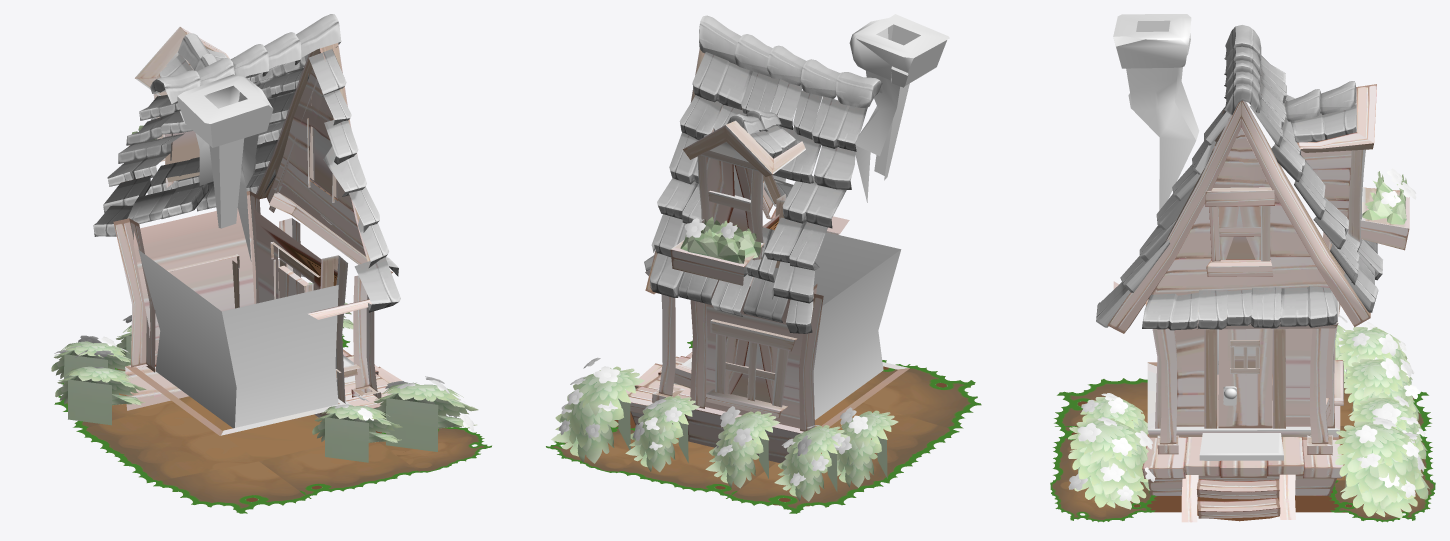
File: FarmerHouse.fbx
3 views of the same model, side by side, from view 1: azimuth 30°, elevation 25°; view 2: azimuth 150°, elevation 25°; view 3: azimuth 270°, elevation 25° (orthographic). The views are drawn at different scales.
Parts seen in each view (by area): view 1: FarmerHouse2 (1), FarmerHouseGround, FarmerHouseSideRoof, FarmerHouseChimney, FarmerHouseRoof, BushSmall, BushSmall (1), BushSmallBlue (2), FarmerHouseWindowDay, BushSmallBlue (1), FarmerHouseSmallRoofs, FarmerHouseDoor005; view 2: FarmerHouse2 (1), FarmerHouseSideRoof, FarmerHouseGround, FarmerHouseChimney, BushSmall (1) (×2), FarmerHouseRoof, BushSmall, FarmerHouseWindowDay, BushSmallBlue (1), BushSmallBlue, FarmerHouseSmallRoofs; view 3: FarmerHouse2 (1), FarmerHouseSideRoof, FarmerHouseSmallRoofs, BushSmall (×2), FarmerHouseChimney, FarmerHouseGround, FarmerHouseDoor005, FarmerHouseStairs, FarmerHouseRoof, BushSmall (1), FarmerHouseWindowDay, FarmerHouseShadow006 (+3 smaller).
Part boxes in pixels (<box>): FarmerHouse2 (1): <box>113,27,392,435</box>; FarmerHouseGround: <box>54,334,491,513</box>; FarmerHouseSideRoof: <box>93,49,400,312</box>; FarmerHouseChimney: <box>177,74,273,261</box>; FarmerHouseRoof: <box>150,14,341,103</box>; BushSmall: <box>374,382,478,451</box>; BushSmall (1): <box>55,366,146,425</box>; BushSmallBlue (2): <box>312,405,402,462</box>; FarmerHouseWindowDay: <box>159,64,337,198</box>; BushSmallBlue (1): <box>51,341,130,383</box>; FarmerHouseSmallRoofs: <box>160,33,398,276</box>; FarmerHouseDoor005: <box>278,265,309,298</box>; FarmerHouse2 (1): <box>628,49,909,472</box>; FarmerHouseSideRoof: <box>650,52,867,333</box>; FarmerHouseGround: <box>546,336,981,513</box>; FarmerHouseChimney: <box>849,14,949,202</box>; BushSmall (1) (×2): <box>705,410,898,488</box>; FarmerHouseRoof: <box>699,15,882,107</box>; BushSmall: <box>551,366,644,463</box>; FarmerHouseWindowDay: <box>706,157,777,403</box>; BushSmallBlue (1): <box>774,425,848,501</box>; BushSmallBlue: <box>625,395,699,472</box>; FarmerHouseSmallRoofs: <box>644,109,796,271</box>; FarmerHouse2 (1): <box>1107,84,1409,495</box>; FarmerHouseSideRoof: <box>1096,55,1382,327</box>; FarmerHouseSmallRoofs: <box>1142,81,1356,330</box>; BushSmall (×2): <box>1068,418,1429,518</box>; FarmerHouseChimney: <box>1113,14,1199,210</box>; FarmerHouseGround: <box>1050,378,1435,522</box>; FarmerHouseDoor005: <box>1218,329,1272,428</box>; FarmerHouseStairs: <box>1181,474,1295,522</box>; FarmerHouseRoof: <box>1224,25,1261,114</box>; BushSmall (1): <box>1344,359,1419,421</box>; FarmerHouseWindowDay: <box>1218,206,1260,259</box>; FarmerHouseShadow006: <box>1071,401,1351,521</box>.
Bounding box in the file's own units: 4.26 × 5.09 × 4.4.
Materials: 5 (4 with a texture image).
